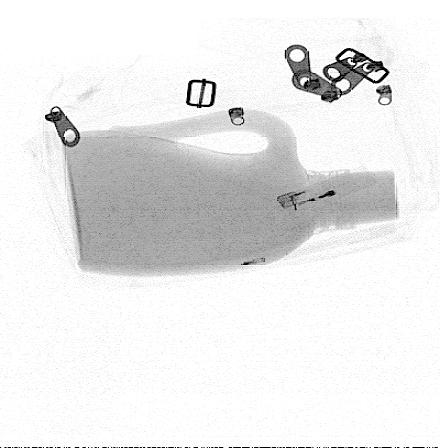Lighter: (275, 164, 375, 214)
